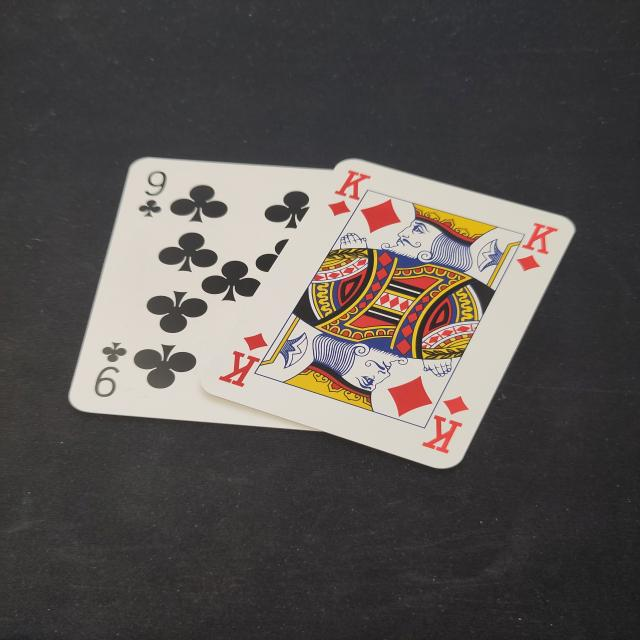9c: (88, 338, 130, 403), (134, 167, 172, 221)
Kd: (206, 326, 274, 398), (414, 392, 473, 459), (507, 221, 567, 275), (323, 163, 372, 221)
